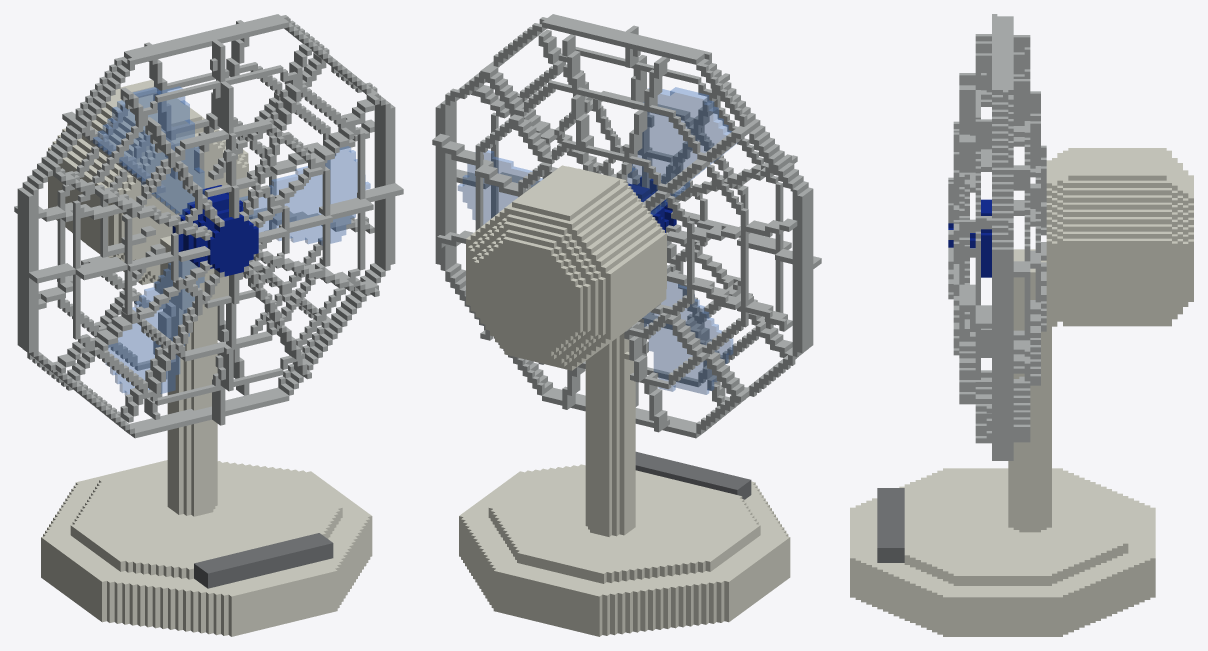
The model's file is desk_fan.glb.
3 views of the same model, side by side, from view 1: azimuth 30°, elevation 25°; view 2: azimuth 150°, elevation 25°; view 3: azimuth 270°, elevation 25° (orthographic). The views are drawn at different scales.
Parts seen in each view (by area): view 1: desk_fan:compound; view 2: desk_fan:compound; view 3: desk_fan:compound.
Boxes of the visible parts, box(x1,y1,x2,y2) form: desk_fan:compound: box(14, 14, 403, 636); desk_fan:compound: box(432, 14, 821, 636); desk_fan:compound: box(850, 14, 1193, 636).
Bounding box in the file's own units: 0.304 × 0.42 × 0.252.
